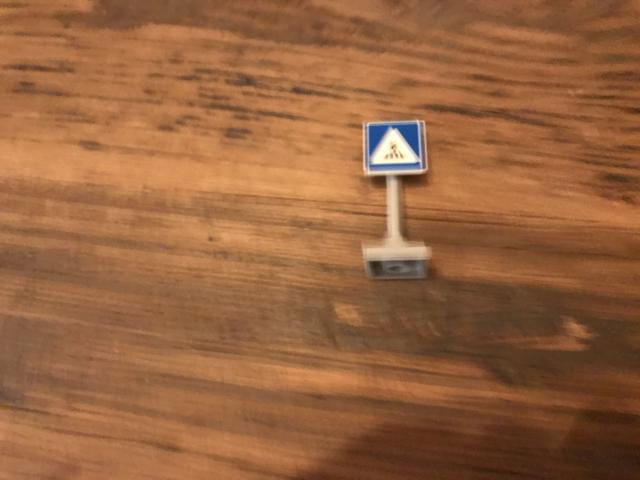fußgängerüberweg: (361, 116, 428, 180)
